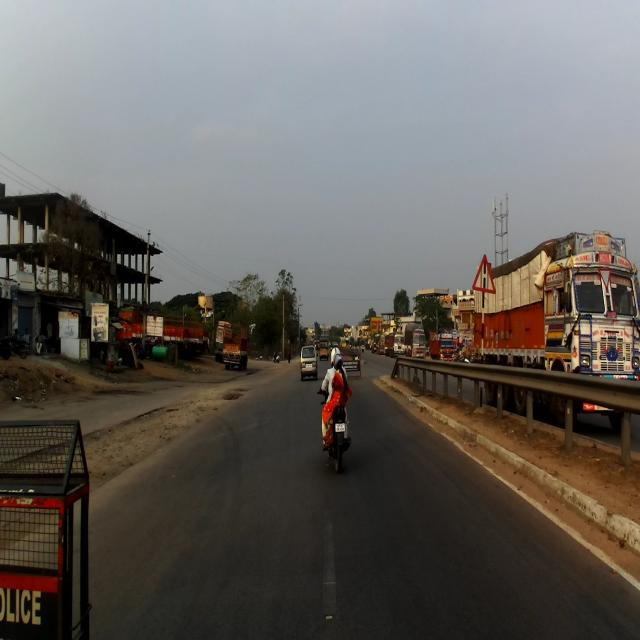car: (299, 344, 318, 380)
motorcycle: (316, 386, 352, 472)
truck: (473, 229, 640, 428), (222, 326, 248, 370)
